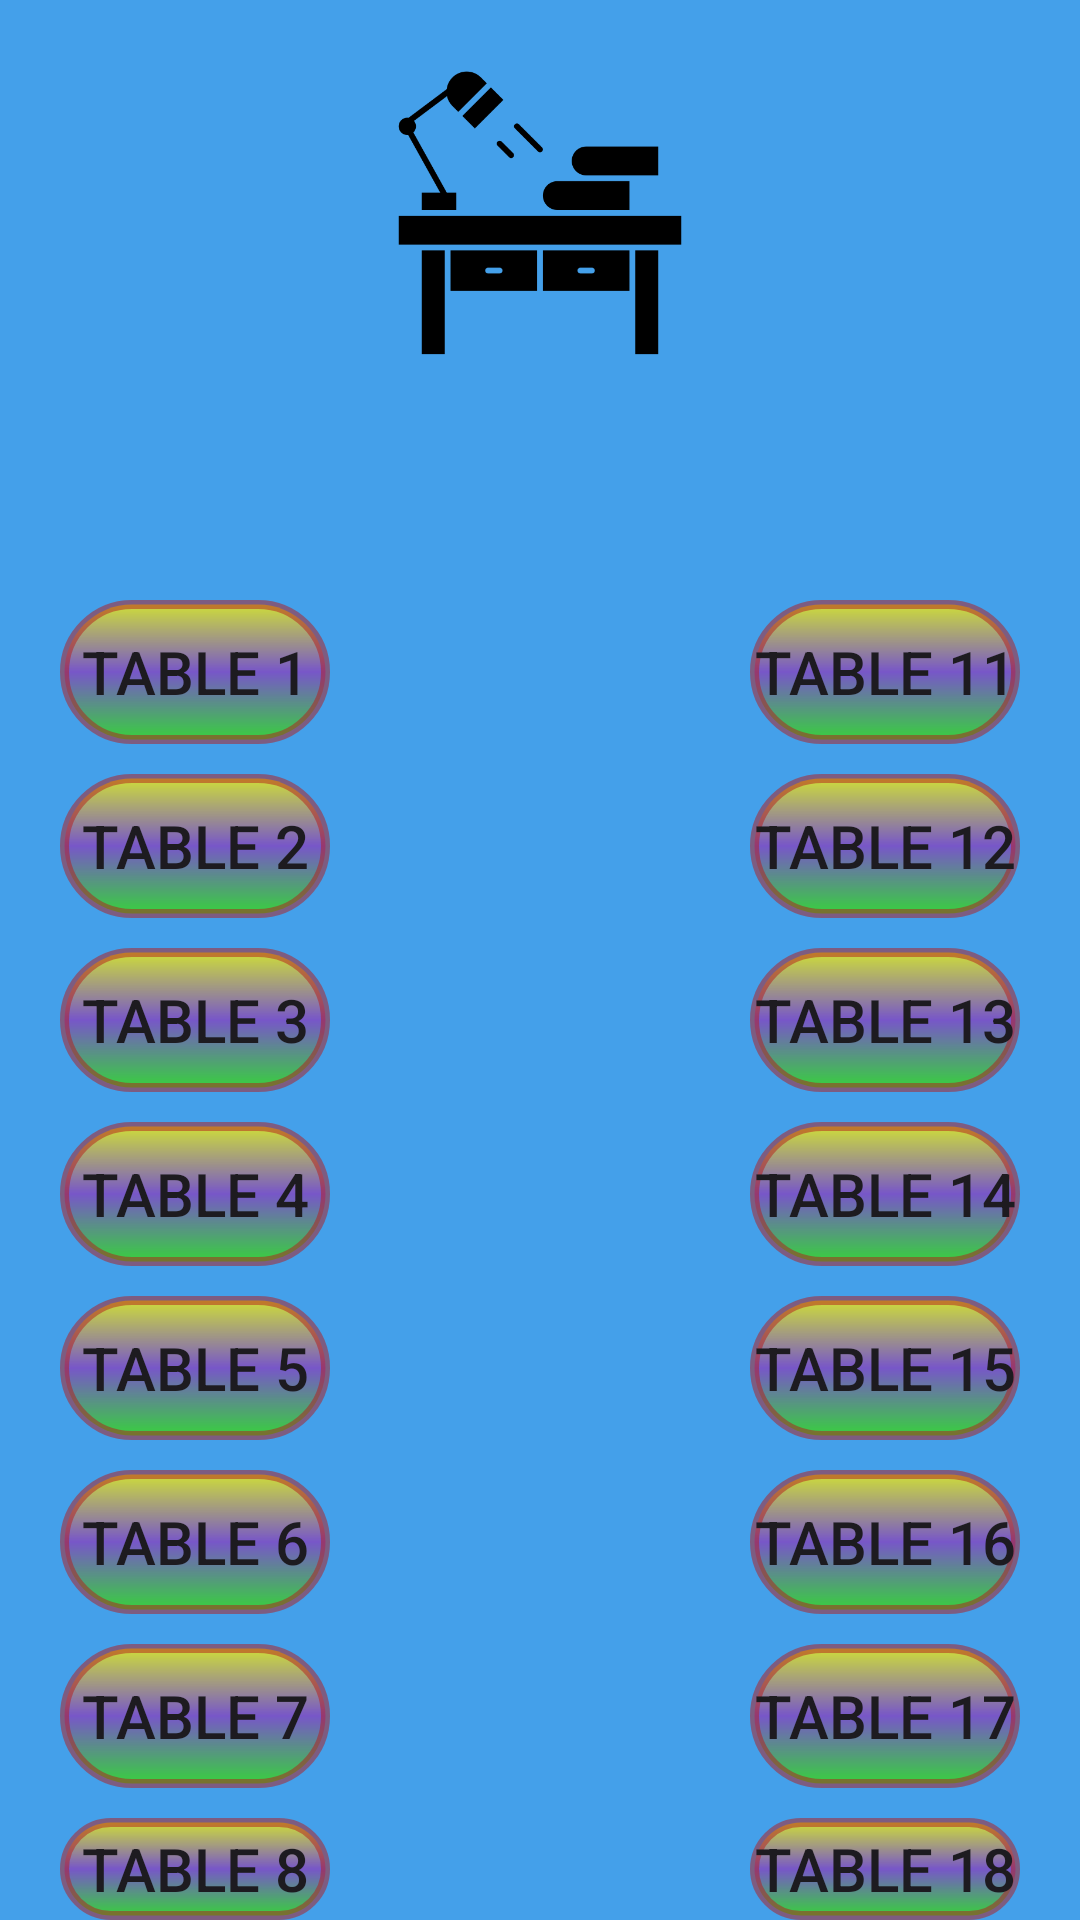

Where icons sit on this 1080 x 1920 app screen, as (x1, y1, x2, y2):
table: (398, 71, 682, 355)
